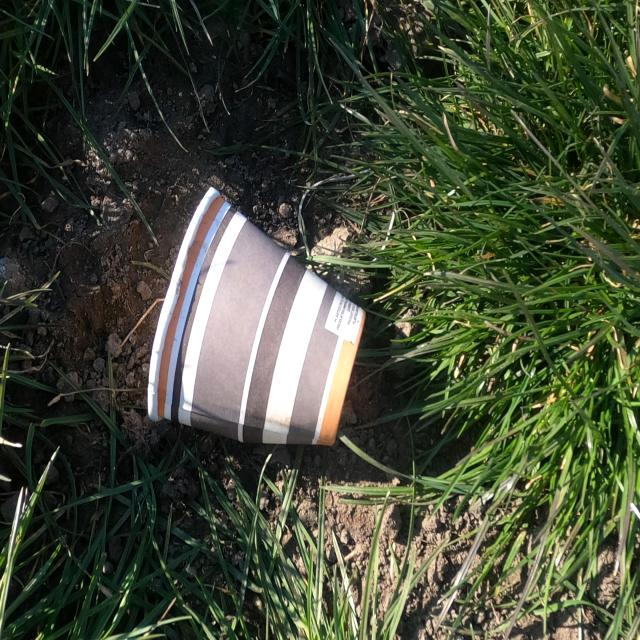Coffee Cup: (144, 181, 368, 449)
